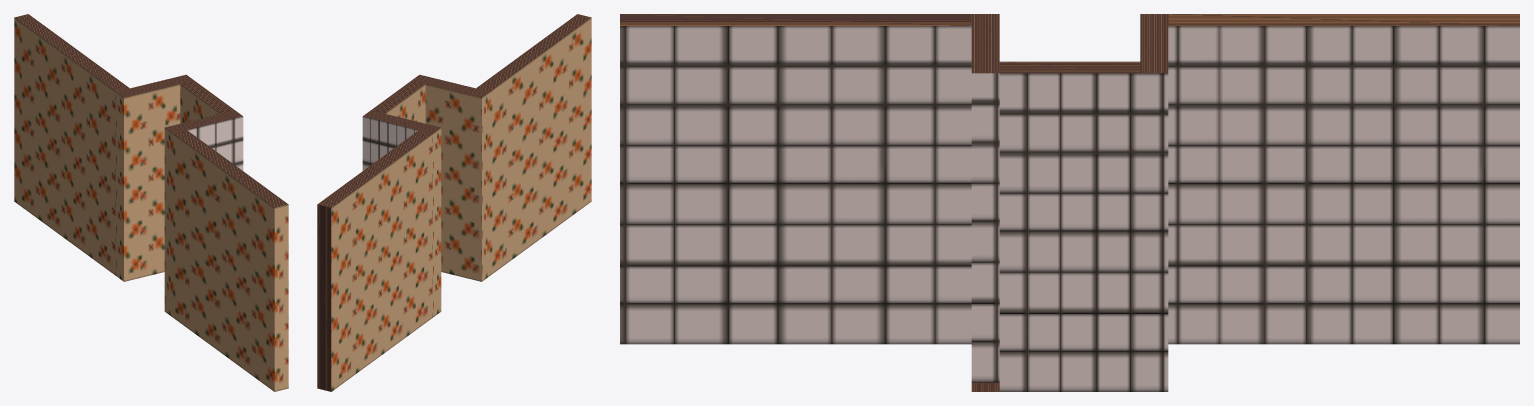
Rendered from Paredese_Cocina_Baño.obj.
The picture shows the model from 3 angles, left to right: view 1: azimuth 30°, elevation 25°; view 2: azimuth 150°, elevation 25°; view 3: azimuth 270°, elevation 25°; orthographic projection. The views are drawn at different scales.
Visible parts, largest first — view 1: Paredese_Cocina_Baño; view 2: Paredese_Cocina_Baño; view 3: Paredese_Cocina_Baño.
Boxes of the visible parts, left/top/right/bottom form: Paredese_Cocina_Baño: left=14, top=14, right=288, bottom=391; Paredese_Cocina_Baño: left=317, top=14, right=591, bottom=391; Paredese_Cocina_Baño: left=620, top=14, right=1519, bottom=391.
Bounding box in the file's own units: 0.625 × 1.56 × 4.
Materials: 1 (1 with a texture image).
